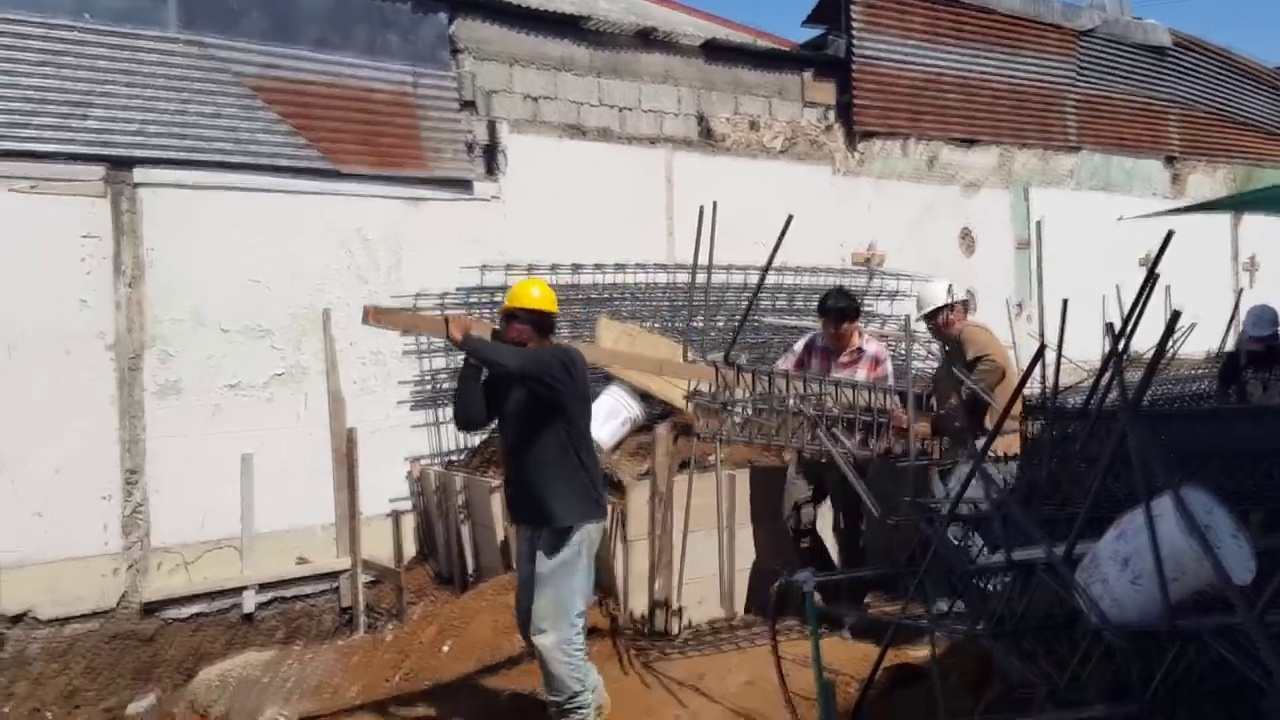helmet: (490, 278, 561, 316), (913, 278, 969, 321), (1243, 304, 1278, 338)
helmet-off: (812, 286, 866, 357)
helmet-on: (489, 275, 560, 351), (913, 276, 978, 346), (1238, 303, 1278, 353)
person: (447, 273, 614, 719), (776, 292, 902, 627), (910, 274, 1021, 562), (1215, 304, 1279, 409)
